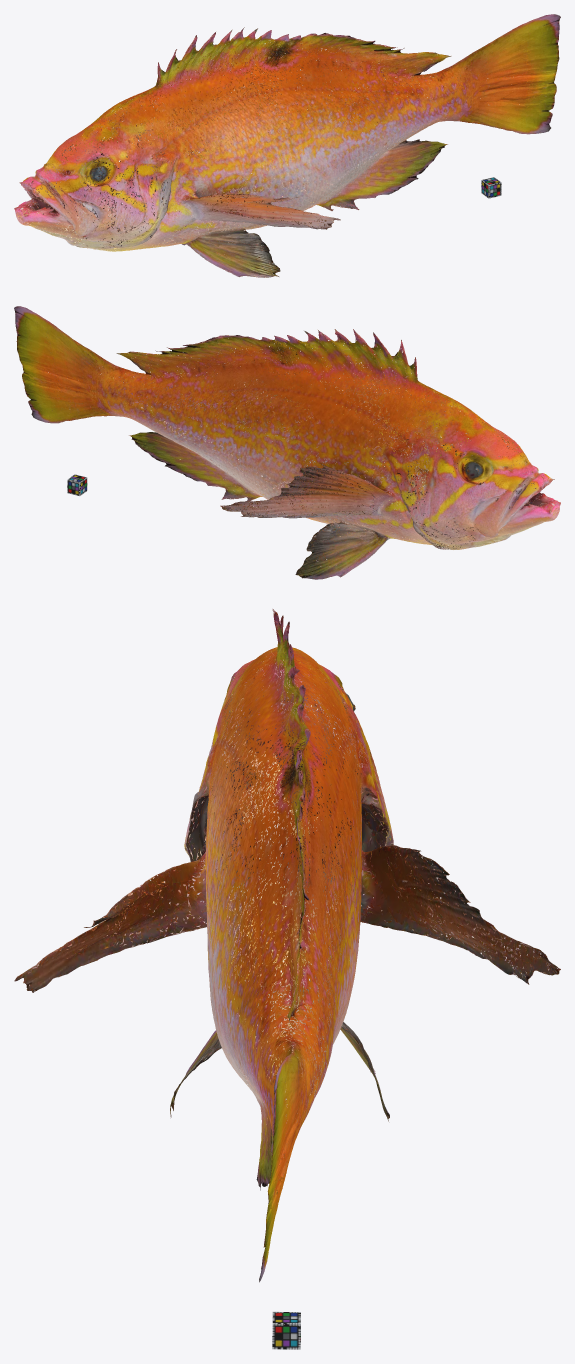
Rendered from scan_sunrise.glb.
3 views of the same model, one above another, from view 1: azimuth 30°, elevation 25°; view 2: azimuth 150°, elevation 25°; view 3: azimuth 270°, elevation 25° (orthographic). The views are drawn at different scales.
Visible parts, largest first — view 1: Object_6, Object_18, Object_12, Object_4; view 2: Object_12, Object_18, Object_6, Object_4; view 3: Object_12, Object_18, Object_6, Object_4.
Boxes of the visible parts, x1,y1,x2,y2 form: Object_6: [14, 14, 560, 277]; Object_18: [16, 15, 560, 277]; Object_12: [14, 14, 557, 276]; Object_4: [481, 177, 501, 198]; Object_12: [16, 306, 560, 579]; Object_18: [14, 307, 560, 579]; Object_6: [14, 306, 559, 579]; Object_4: [67, 474, 87, 496]; Object_12: [26, 611, 560, 1282]; Object_18: [14, 609, 560, 1233]; Object_6: [15, 609, 559, 1280]; Object_4: [272, 1311, 300, 1349].
Bounding box in the file's own units: 16.75 × 6.99 × 7.62.
4 materials, 4 textured.
